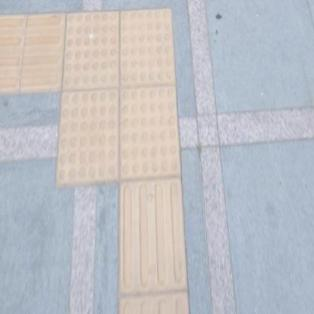Podoctatil: (42, 0, 198, 214), (117, 181, 188, 313), (0, 12, 61, 94)
